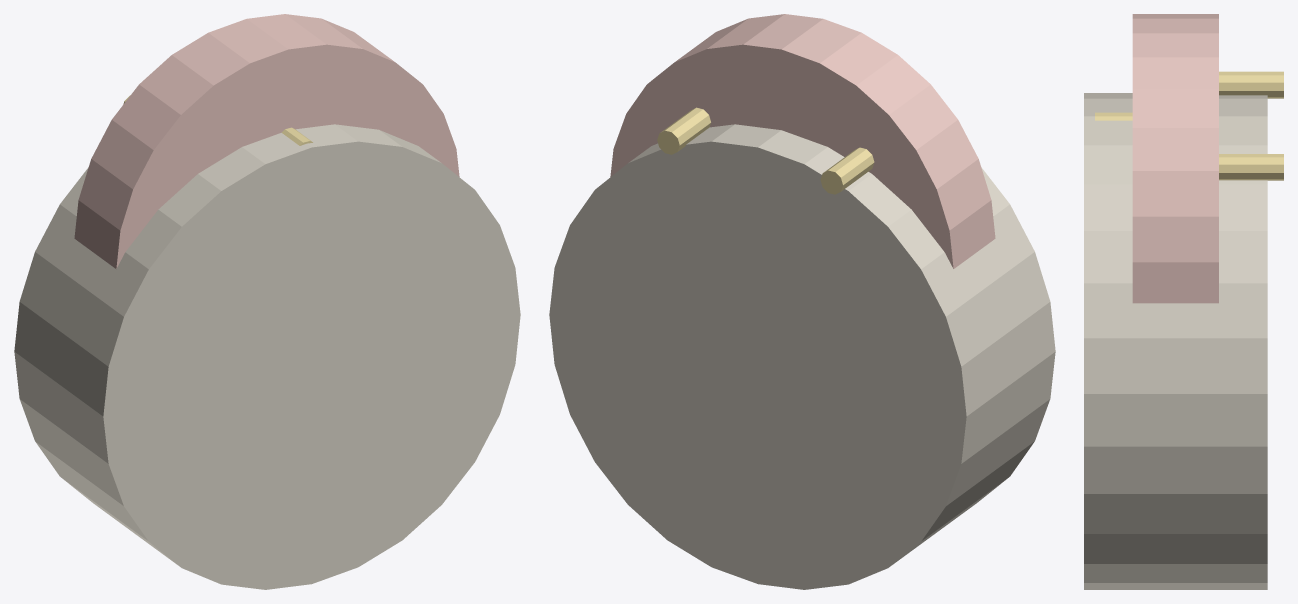
File: birthday_cake.glb
The picture shows the model from 3 angles, left to right: view 1: azimuth 30°, elevation 25°; view 2: azimuth 150°, elevation 25°; view 3: azimuth 270°, elevation 25°; orthographic projection. The views are drawn at different scales.
Parts seen in each view (by area): view 1: part_00, part_01; view 2: part_00, part_01, part_02, part_04; view 3: part_00, part_01, part_04, part_02, part_03.
Part boxes in pixels (x1,y1,x2,y2): part_00: (14,124,520,589); part_01: (74,14,459,268); part_00: (549,124,1055,589); part_01: (610,14,995,268); part_02: (820,147,874,194); part_04: (657,107,710,154); part_00: (1084,93,1267,589); part_01: (1132,14,1218,303); part_04: (1219,154,1283,180); part_02: (1219,71,1283,98); part_03: (1095,112,1132,120).
Size of the model in its own units: 0.92 by 1.09 by 0.37.
